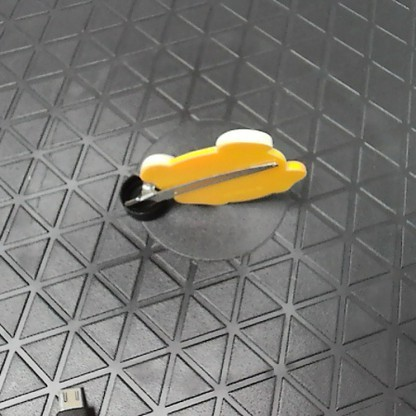dogclip: (125, 126, 306, 207)
